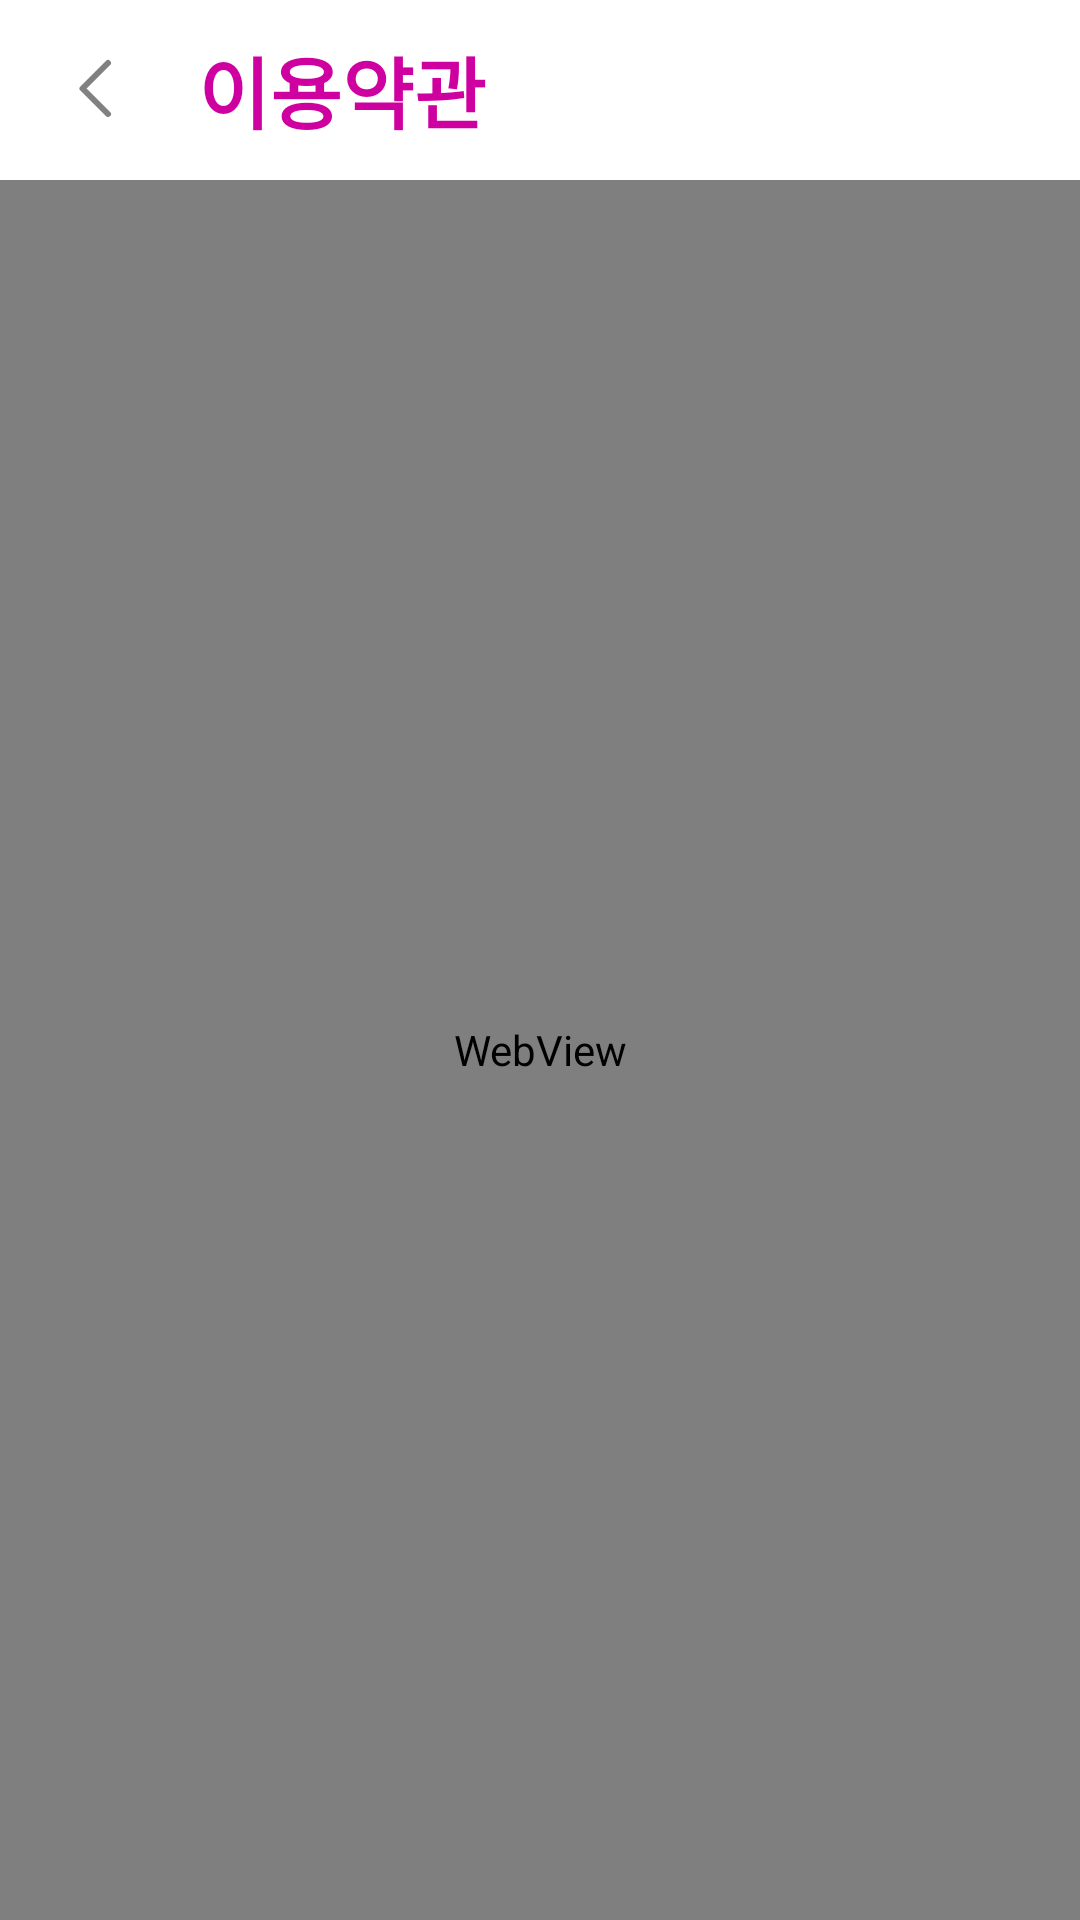

Screen size 1080*1920. Icon name, then its center in pixels as [x,y]:
back: [95,88]
